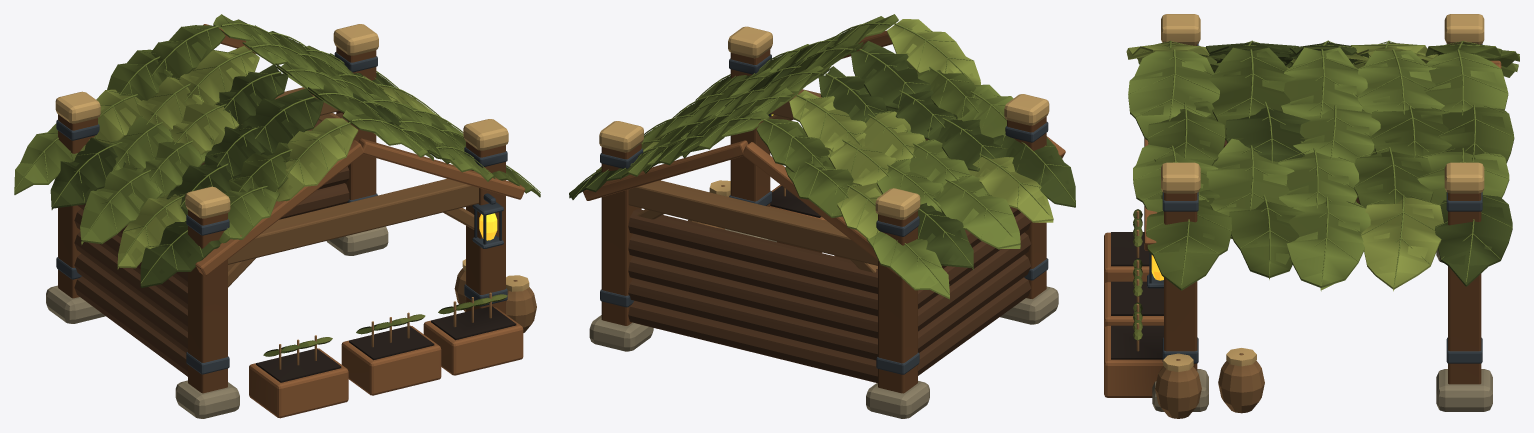
The picture shows the model from 3 angles, left to right: view 1: azimuth 30°, elevation 25°; view 2: azimuth 150°, elevation 25°; view 3: azimuth 270°, elevation 25°; orthographic projection. The views are drawn at different scales.
Visible parts, largest first — view 1: forester.001; view 2: forester.001; view 3: forester.001.
Boxes of the visible parts, <box> form: forester.001: <box>14,14,540,418</box>; forester.001: <box>569,14,1075,418</box>; forester.001: <box>1104,14,1519,418</box>.
Bounding box in the file's own units: 5.56 × 3.46 × 4.61.
